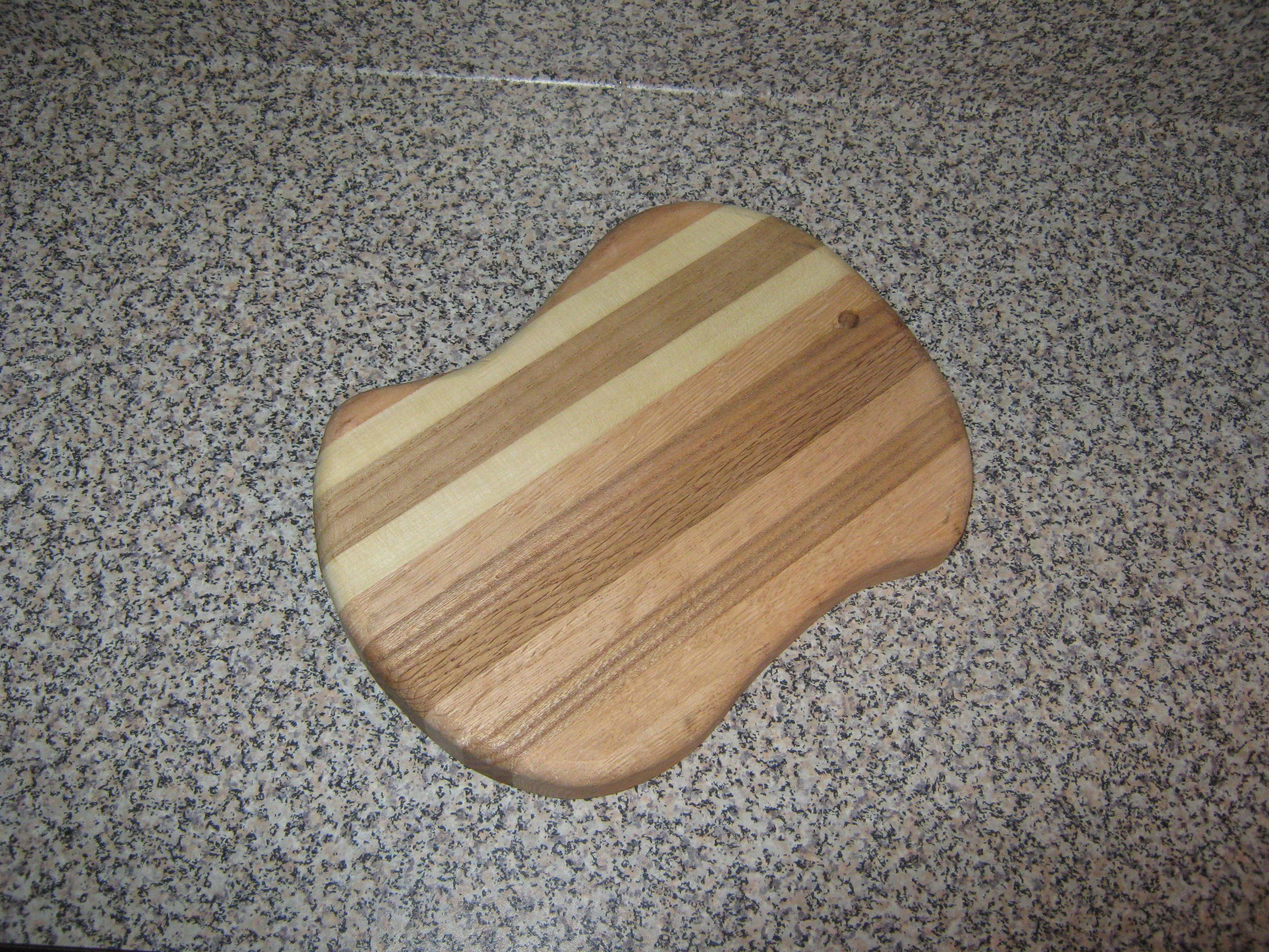gloved_hand: (300, 190, 997, 809)
